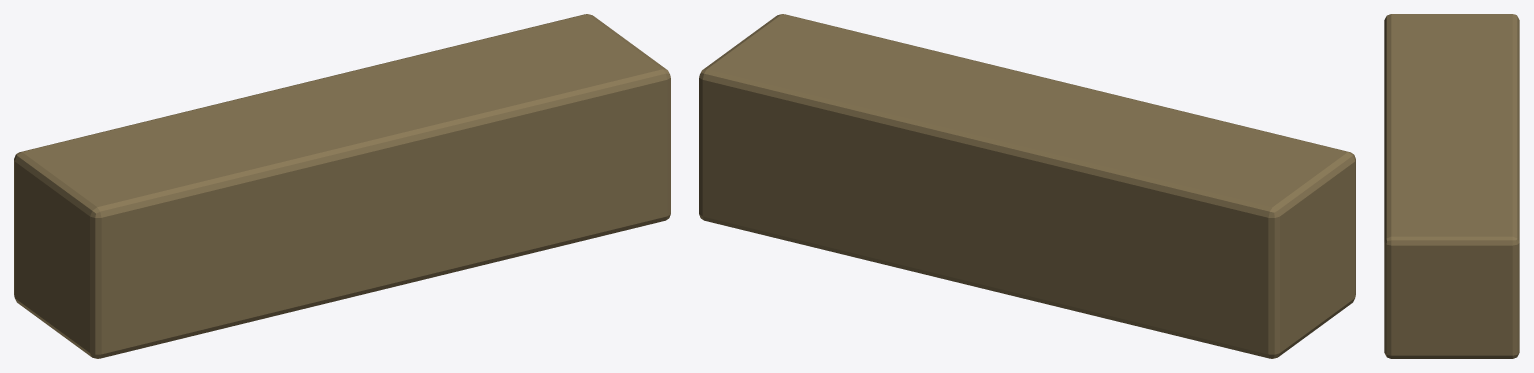
File: SM_Platform_1m_03_B.fbx
3 views of the same model, side by side, from view 1: azimuth 30°, elevation 25°; view 2: azimuth 150°, elevation 25°; view 3: azimuth 270°, elevation 25° (orthographic). The views are drawn at different scales.
Parts seen in each view (by area): view 1: polySurface80; view 2: polySurface80; view 3: polySurface80.
Boxes of the visible parts, box(x1,y1,x2,y2) form: polySurface80: box(14, 14, 670, 358); polySurface80: box(699, 14, 1355, 358); polySurface80: box(1384, 14, 1519, 358).
Bounding box in the file's own units: 400 × 100 × 100.
